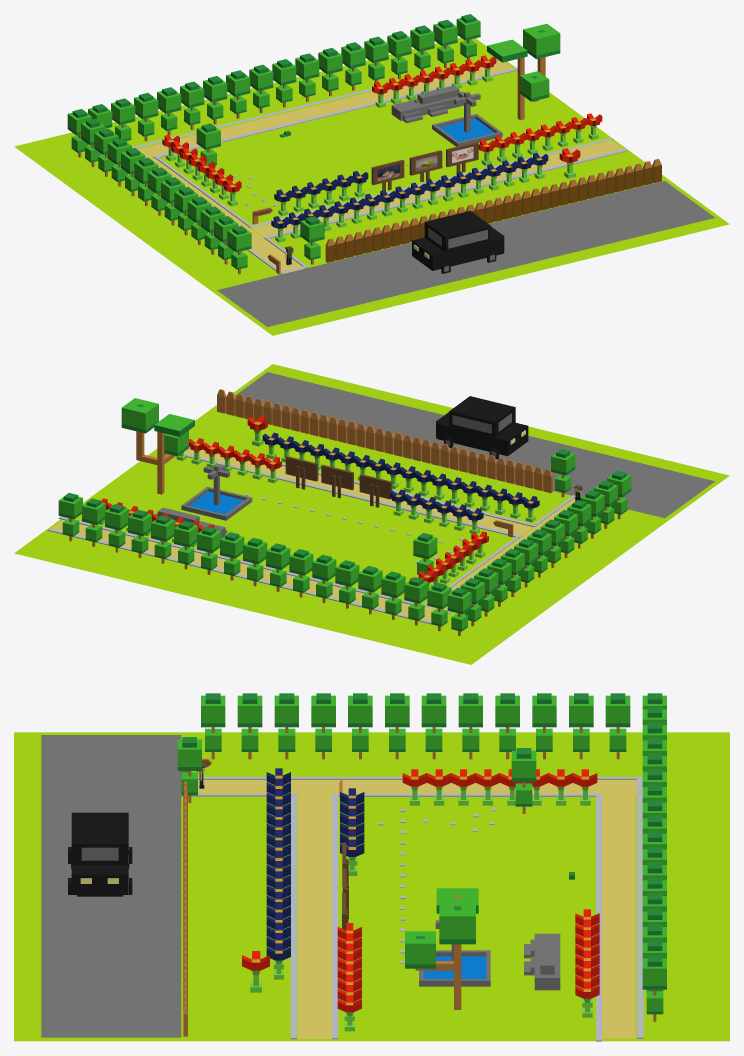
The model's file is Portfolio.glb.
3 views of the same model, one above another, from view 1: azimuth 30°, elevation 25°; view 2: azimuth 150°, elevation 25°; view 3: azimuth 270°, elevation 25° (orthographic). The views are drawn at different scales.
Parts seen in each view (by area): view 1: Level, Car, ProjectOne, ProjectTwo, ProjectThree; view 2: Level, Car, ProjectThree, ProjectOne, ProjectTwo; view 3: Level, Car.
Part boxes in pixels (<box>): Level: <box>14,14,729,335</box>; Car: <box>412,211,504,273</box>; ProjectOne: <box>371,159,404,190</box>; ProjectTwo: <box>409,150,442,181</box>; ProjectThree: <box>446,142,478,172</box>; Level: <box>14,364,729,664</box>; Car: <box>436,396,528,459</box>; ProjectThree: <box>285,456,318,489</box>; ProjectOne: <box>359,474,392,507</box>; ProjectTwo: <box>321,465,353,498</box>; Level: <box>14,693,729,1041</box>; Car: <box>68,812,132,896</box>.
Size of what is drawn, in the model's own units: 57.06 by 9.81 by 55.75.
30 materials, 3 textured.
